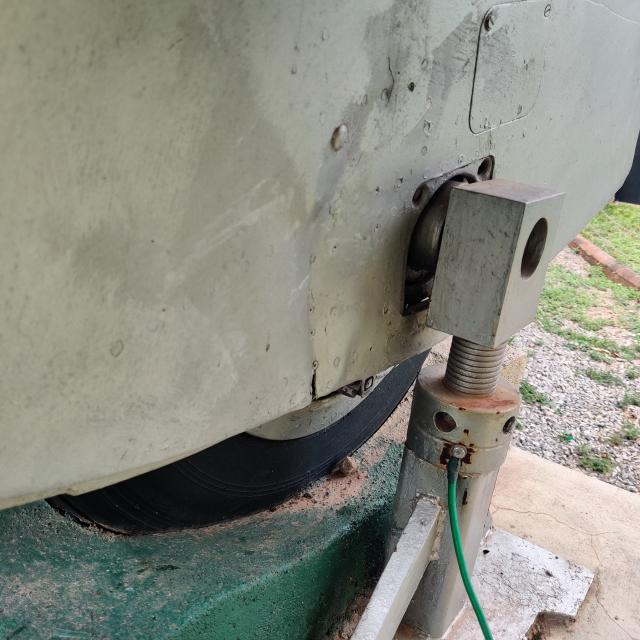crack: (299, 361, 337, 412)
